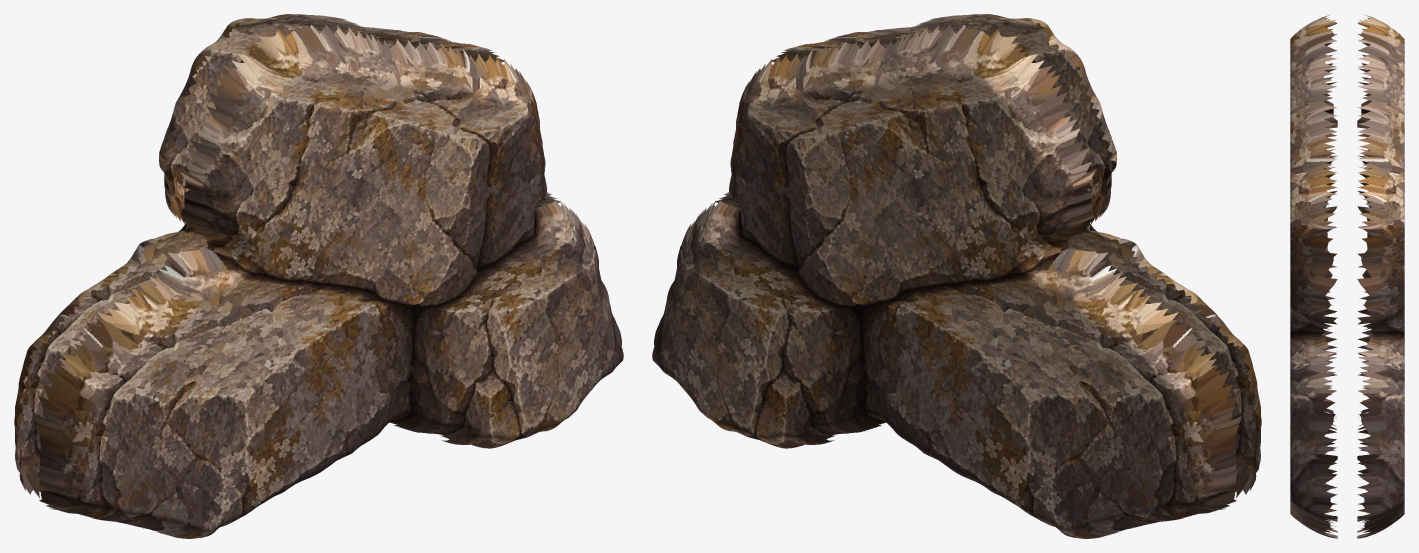
File: v4-crypt-door-scatter-rubble.glb
3 renders of one model, left to right at view 1: azimuth 30°, elevation 25°; view 2: azimuth 150°, elevation 25°; view 3: azimuth 270°, elevation 25°, orthographic. The views are drawn at different scales.
Visible parts, largest first — view 1: v4-crypt-door-scatter-rubble; view 2: v4-crypt-door-scatter-rubble; view 3: v4-crypt-door-scatter-rubble.
Boxes of the visible parts, x1=… form: v4-crypt-door-scatter-rubble: x1=14, y1=14, x2=623, y2=538; v4-crypt-door-scatter-rubble: x1=652, y1=14, x2=1261, y2=538; v4-crypt-door-scatter-rubble: x1=1290, y1=14, x2=1404, y2=538.
Size of the model in its own units: 0.8662 by 0.6836 by 0.168.
Materials: 1 (1 with a texture image).
